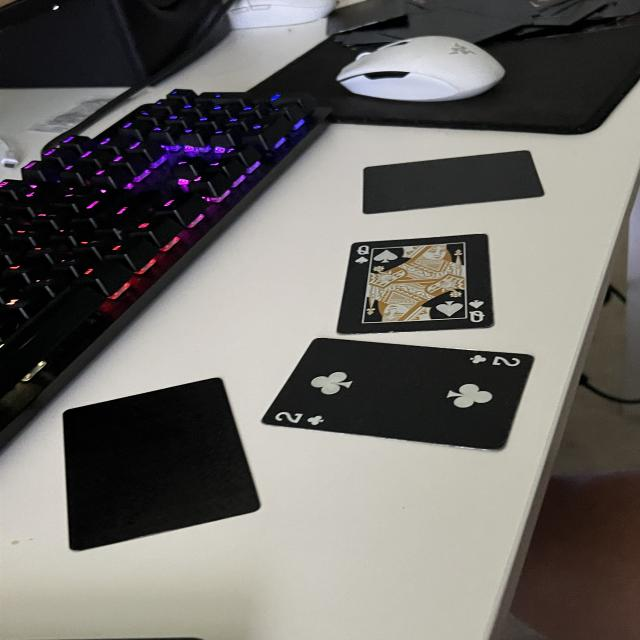2C: (468, 353, 523, 369), (271, 411, 327, 426)
BACK: (61, 374, 269, 557), (361, 142, 552, 217)
QS: (468, 300, 487, 323), (355, 245, 368, 265)
